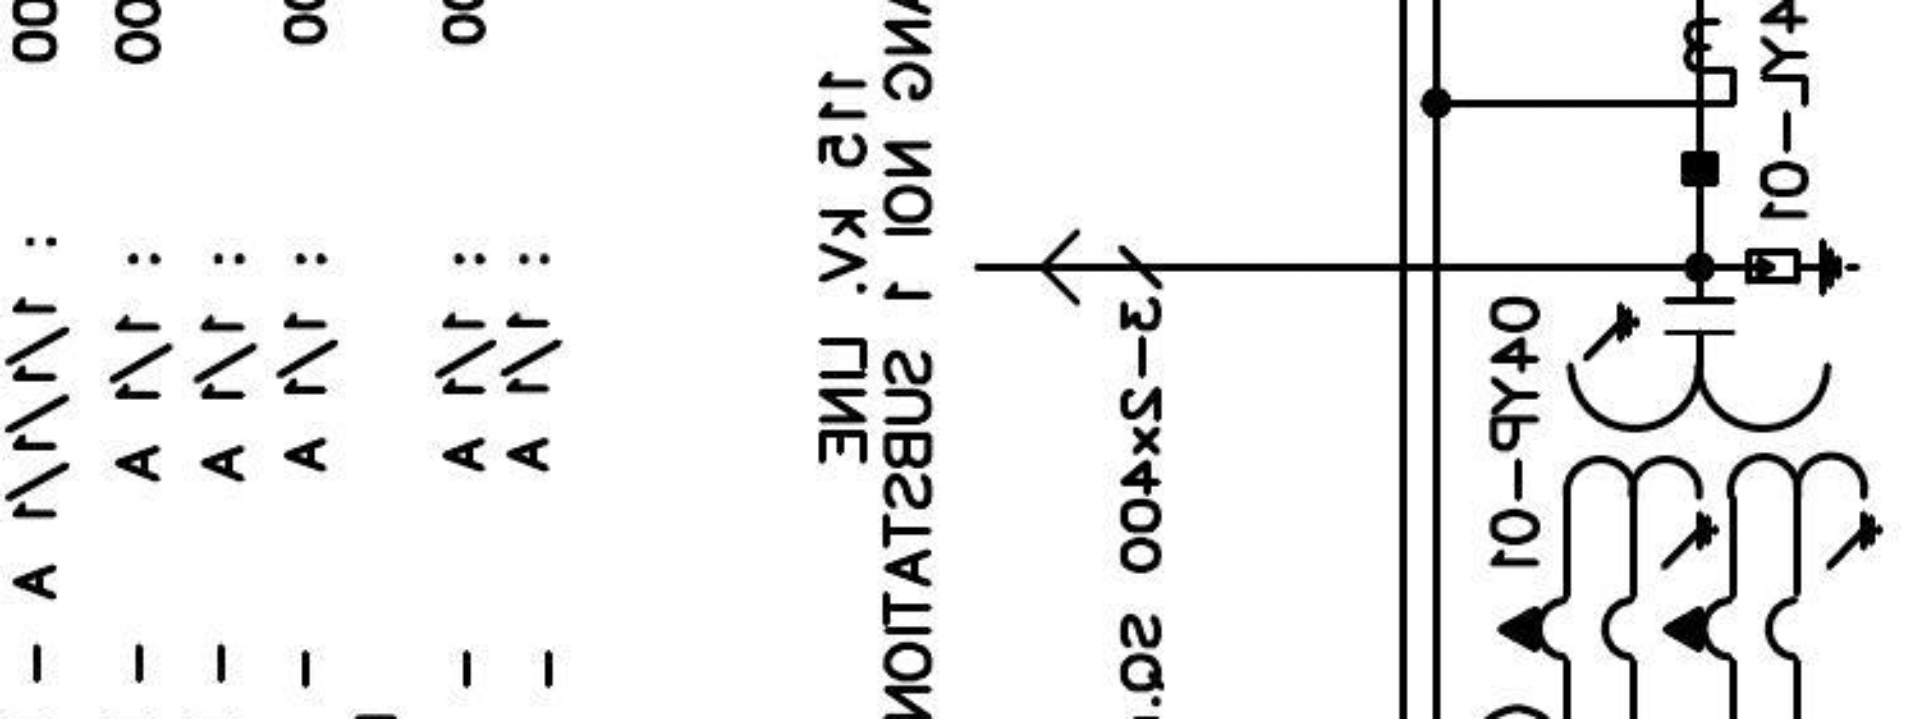115_cvt_1p: (1496, 295, 1887, 668)
115_la: (1744, 237, 1862, 298)
